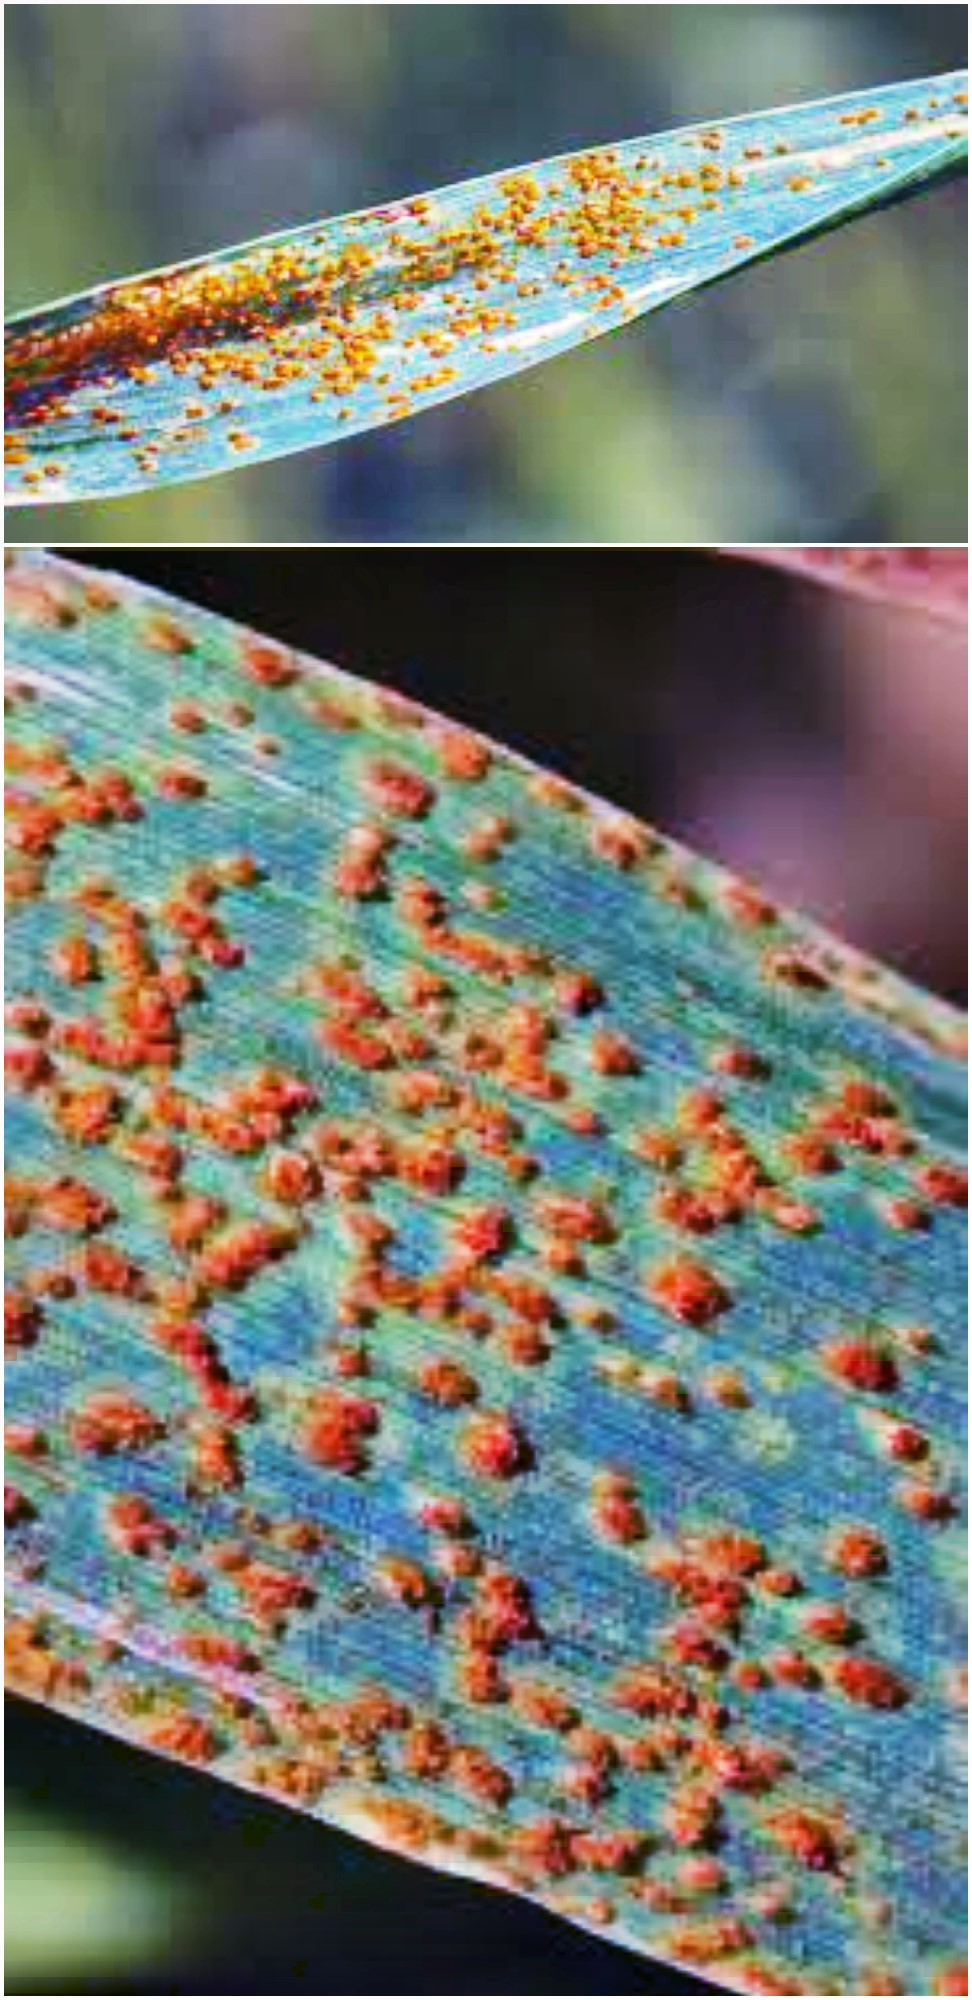Leaf Rust: (40, 700, 915, 1969), (41, 99, 819, 515)
